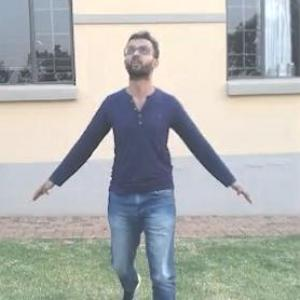land: (29, 13, 293, 299)
